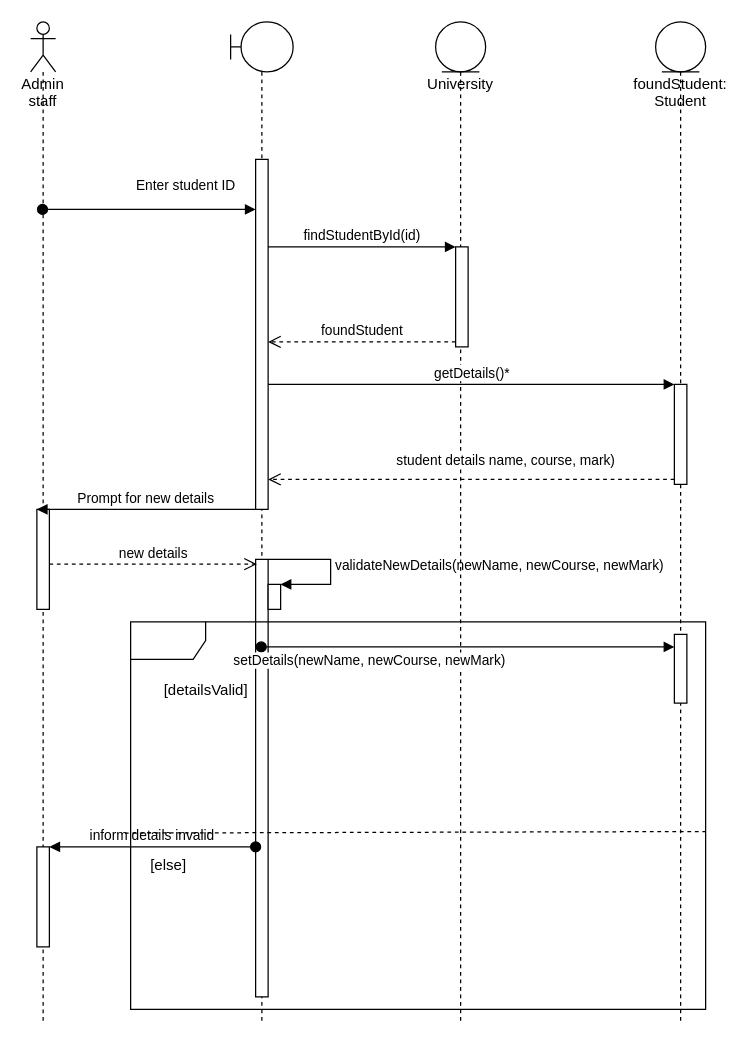
Some shapes in this 749 by 1044 pixel diagram are drawn without their labels. The shapes that lost their labels are listed below. From the top down, each one's centre as x and y in pixels, then its label:
At (261,521): "GUI".
At (417,815): "alt".
